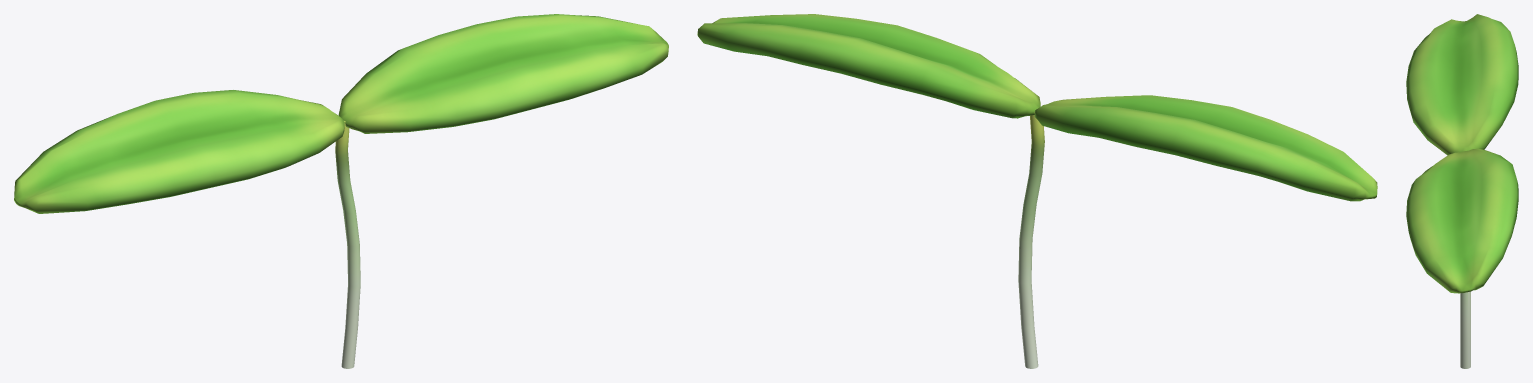
File: leaf.fbx
The picture shows the model from 3 angles, left to right: view 1: azimuth 30°, elevation 25°; view 2: azimuth 150°, elevation 25°; view 3: azimuth 270°, elevation 25°; orthographic projection. The views are drawn at different scales.
Parts seen in each view (by area): view 1: pCube2, pCube1, pCylinder2; view 2: pCube2, pCube1, pCylinder2; view 3: pCube1, pCube2, pCylinder2.
Part boxes in pixels (x1,y1,x2,y2): pCube2: (14,90,344,213); pCube1: (338,14,668,133); pCylinder2: (335,121,360,368); pCube2: (1034,95,1377,201); pCube1: (697,14,1040,118); pCylinder2: (1018,112,1044,368); pCube1: (1406,148,1518,293); pCube2: (1406,14,1518,155); pCylinder2: (1460,291,1470,368).
Bounding box in the file's own units: 149 × 63.28 × 26.32.
